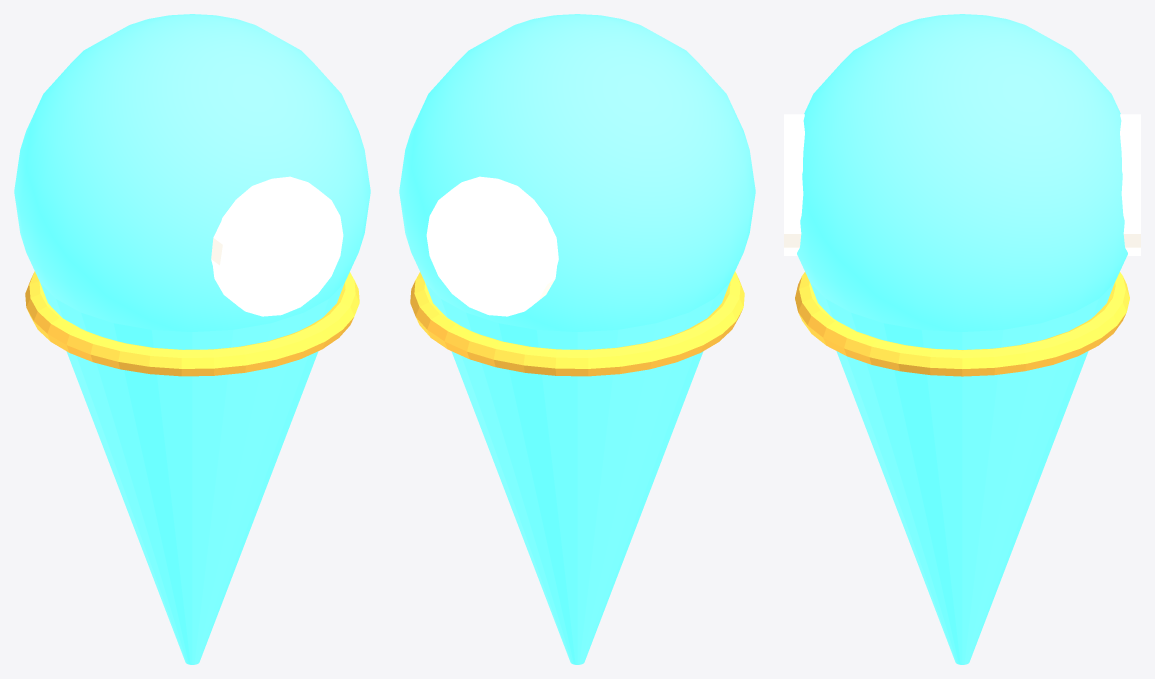
The model's file is map_pin.glb.
3 views of the same model, side by side, from view 1: azimuth 30°, elevation 25°; view 2: azimuth 150°, elevation 25°; view 3: azimuth 270°, elevation 25° (orthographic).
Visible parts, largest first — view 1: head, cone, dot-1, ring; view 2: head, cone, dot1, ring; view 3: head, cone, ring, dot-1, dot1.
Part boxes in pixels (x1,y1,x2,y2): head: (14,14,370,331); cone: (40,283,344,664); dot-1: (211,176,343,316); ring: (25,271,359,376); head: (399,14,755,331); cone: (425,283,729,664); dot1: (426,176,558,316); ring: (410,271,744,376); head: (797,14,1127,331); cone: (810,283,1114,664); ring: (795,272,1129,376); dot-1: (784,114,804,255); dot1: (1120,114,1140,255).
Size of the model in its own units: 1 by 1.96 by 1.
